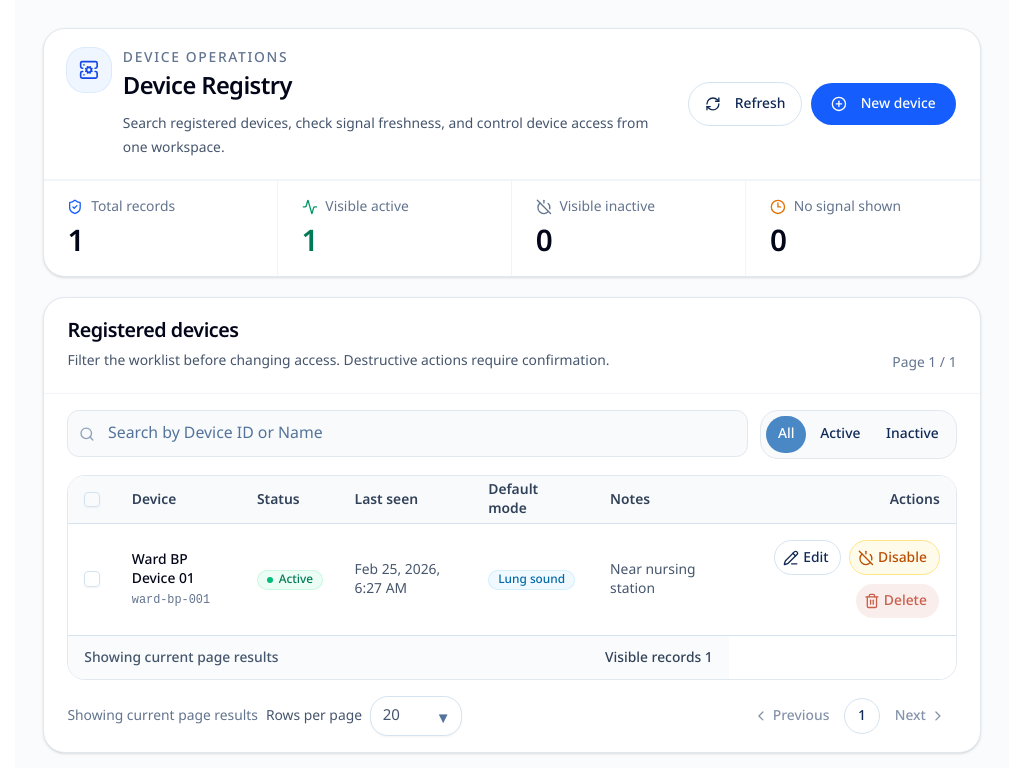
Scenario: Device registry flow › updates the status row immediately after clicking disable
Expected: the text "Ward BP Device 01" is shown, [132,549,195,590]
Click the button with aria-label "disable ward bp device 01".
click(894, 558)  # box [849,540,940,575]
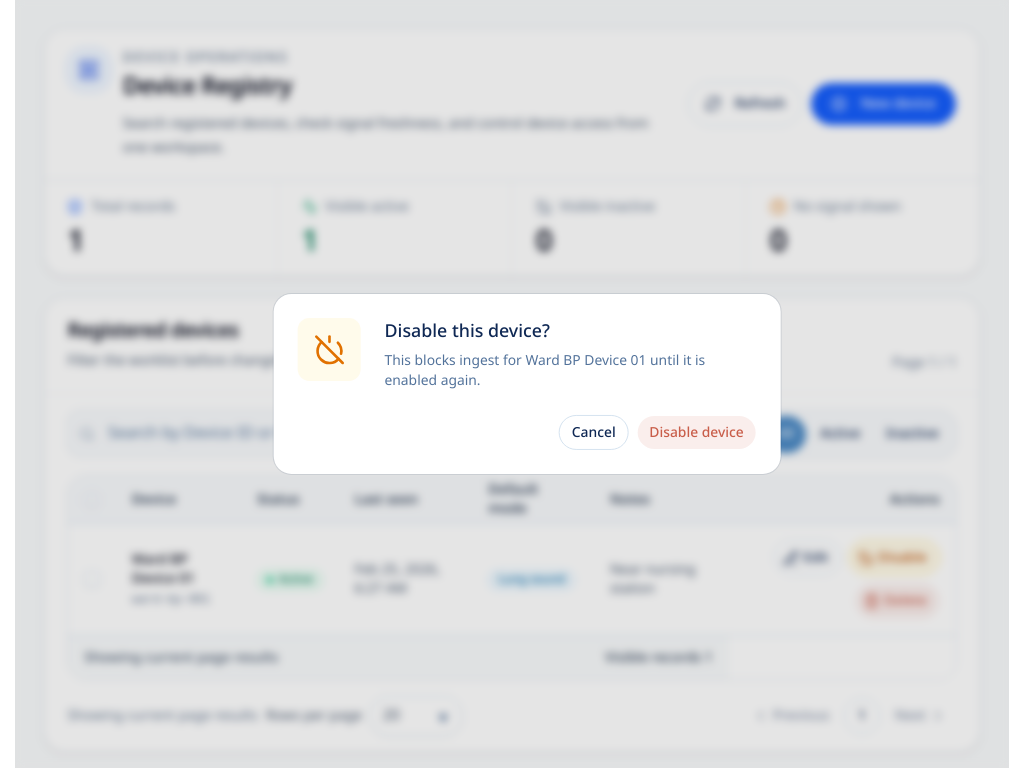
Click the button "Disable device".
click(696, 432)  # box [636,415,757,450]
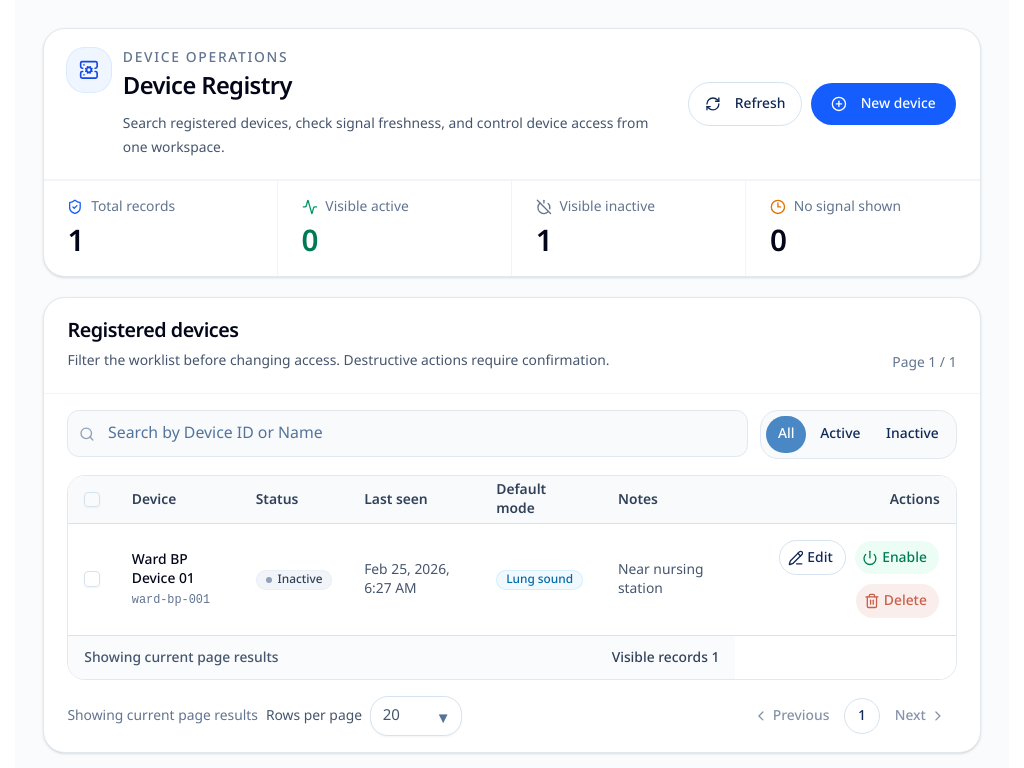
Expected: the text "Ward BP Device 01" is shown, [132,549,195,590]
Now the text "Inactive" is shown, box [256,570,332,590]
